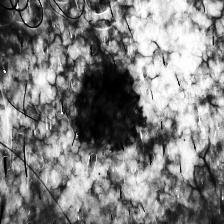Benign Marking or Mole: (85, 73, 142, 144)
